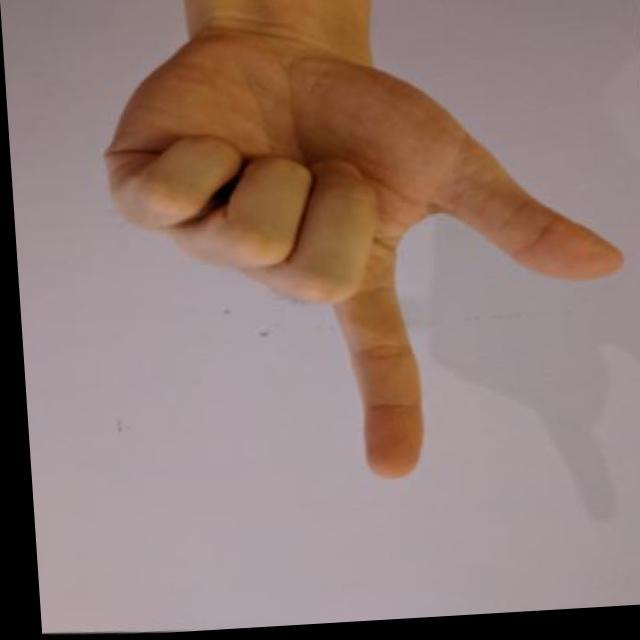L: (77, 6, 640, 516)
